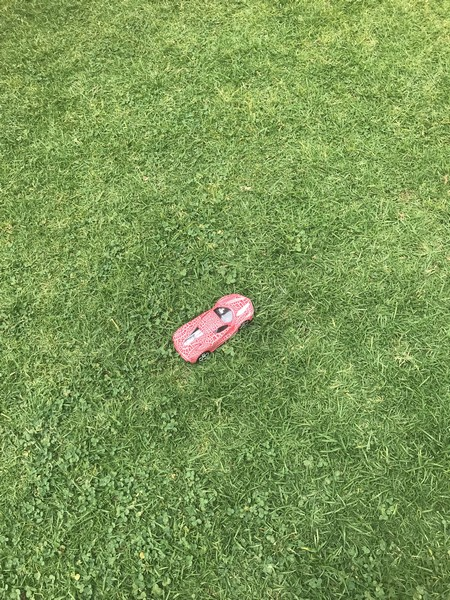RC: (169, 292, 257, 365)
